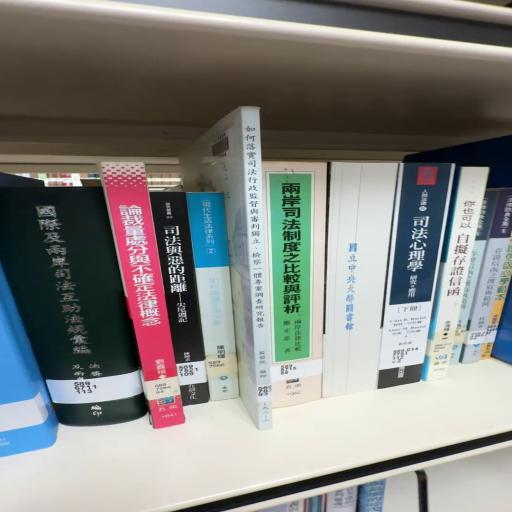backward: (323, 162, 398, 397)
book: (3, 174, 155, 428), (181, 108, 278, 454), (96, 167, 182, 434), (380, 162, 458, 386), (154, 188, 211, 417), (185, 190, 244, 409), (268, 162, 330, 362)
